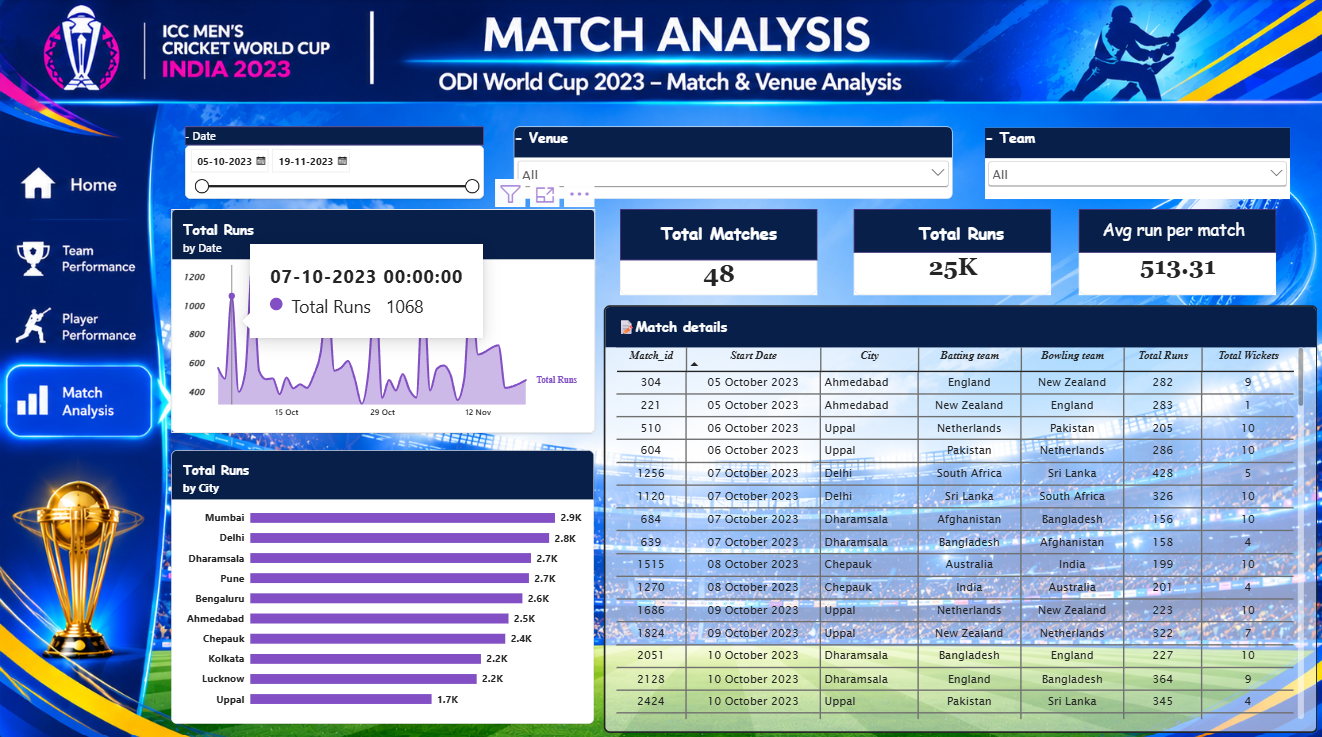

Layout of this report page (visuals, bound fields, positions):
{"tool":"powerbi","page":{"name":"MATCH ANALYSIS ","canvas":[1920,1080],"ordinal":3},"visuals":[{"type":"slicer","fields":{"Values":["Calender.Date"]},"box":[267.8,211.7,432.5,77.8],"z":0},{"type":"slicer","title":"- Venue","fields":{"Values":["ODI 2023.venue"]},"box":[743.8,184.6,635.2,105],"z":1000},{"type":"slicer","title":"-  Team","fields":{"Values":["Teams.Team"]},"box":[1426,186.4,441.6,103.2],"z":2000},{"type":"cardVisual","title":".","fields":{"Data":["ODI 2023.Total Matches"]},"box":[897.6,304,285.9,124.9],"z":3000},{"type":"cardVisual","title":".","fields":{"Data":["ODI 2023.Total Runs"]},"box":[1236,304,285.9,124.9],"z":4000},{"type":"cardVisual","title":".","fields":{"Data":["ODI 2023.Average Runs per Match"]},"box":[1561.7,304,285.9,124.9],"z":5000},{"type":"lineChart","fields":{"Category":["Calender.Date"],"Y":["ODI 2023.Total Runs"]},"box":[247.9,304,613.5,323.9],"z":6000},{"type":"clusteredBarChart","fields":{"Category":["ODI 2023.City"],"Y":["ODI 2023.Total Runs"]},"box":[247.9,653.3,611.7,396.3],"z":7000},{"type":"tableEx","title":"📝Match details","fields":{"Values":["Sum(ODI 2023.match_id)","ODI 2023.start_date","ODI 2023.City","ODI 2023.batting_team","ODI 2023.bowling_team","ODI 2023.Total Runs","ODI 2023.Total Wickets"]},"box":[874.1,443.4,1033.3,618.9],"z":8000},{"type":"shape","box":[0,229.8,191.8,72.4],"z":9000},{"type":"shape","box":[14.5,336.6,204.5,83.2],"z":10000},{"type":"shape","box":[14.5,425.3,204.5,83.2],"z":11000},{"type":"shape","box":[0,704,191.8,249.7],"z":12000},{"type":"shape","box":[267.8,184.6,432.5,27.1],"z":13000},{"type":"shape","box":[897.6,304,285.9,74.2],"z":14000},{"type":"textbox","box":[897.6,322.1,285.9,38],"z":15000},{"type":"shape","box":[1236,304,285.9,63.3],"z":16000},{"type":"shape","box":[1561.7,304,285.9,63.3],"z":17000},{"type":"textbox","box":[1295.7,322.1,191.8,38],"z":18000},{"type":"textbox","box":[1596.1,316.7,217.2,38],"z":19000}]}

Visuals, with their boxes in screenshot pixels (x1, y1, x2, y2), scaled from the page's 1920x1080 canvas onto the 1322x737 screenshot:
slicer - Calender.Date: x1=184, y1=144, x2=482, y2=198
"- Venue" slicer: x1=512, y1=126, x2=949, y2=198
"-  Team" slicer: x1=982, y1=127, x2=1286, y2=198
"." cardVisual: x1=618, y1=207, x2=815, y2=293
"." cardVisual: x1=851, y1=207, x2=1048, y2=293
"." cardVisual: x1=1075, y1=207, x2=1272, y2=293
lineChart - Calender.Date x ODI 2023.Total Runs: x1=171, y1=207, x2=593, y2=428
clusteredBarChart - ODI 2023.City x ODI 2023.Total Runs: x1=171, y1=446, x2=592, y2=716
"📝Match details" tableEx: x1=602, y1=303, x2=1313, y2=725
shape: x1=0, y1=157, x2=132, y2=206
shape: x1=10, y1=230, x2=151, y2=286
shape: x1=10, y1=290, x2=151, y2=347
shape: x1=0, y1=480, x2=132, y2=651
shape: x1=184, y1=126, x2=482, y2=144
shape: x1=618, y1=207, x2=815, y2=258
textbox: x1=618, y1=220, x2=815, y2=246
shape: x1=851, y1=207, x2=1048, y2=251
shape: x1=1075, y1=207, x2=1272, y2=251
textbox: x1=892, y1=220, x2=1024, y2=246
textbox: x1=1099, y1=216, x2=1249, y2=242
